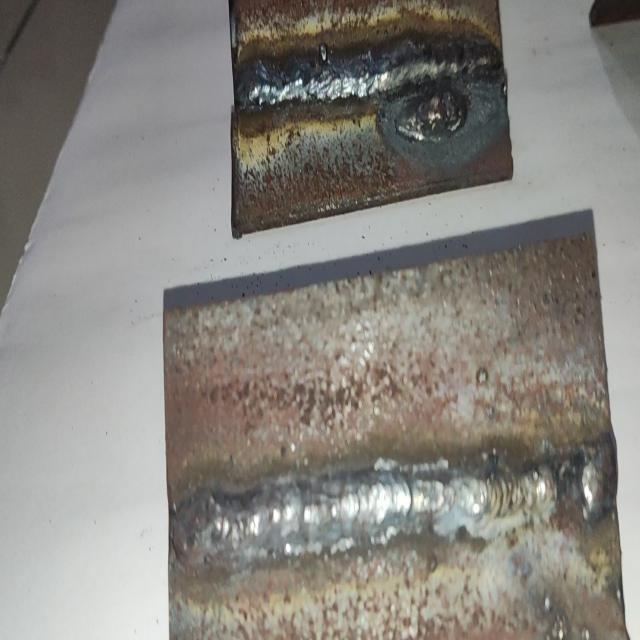Defect: (393, 36, 477, 146), (540, 431, 607, 544)
Welding Line: (176, 440, 614, 572), (242, 44, 502, 116)
Workpiece: (168, 234, 618, 640), (230, 0, 512, 236)
